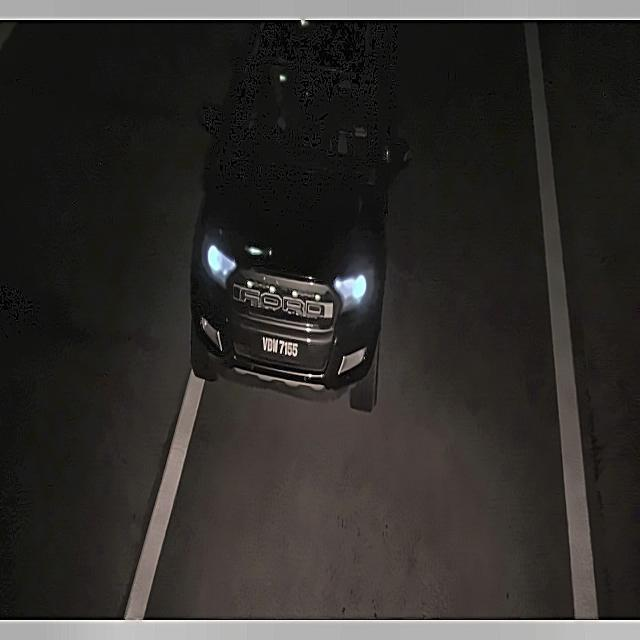car: (255, 331, 304, 366)
